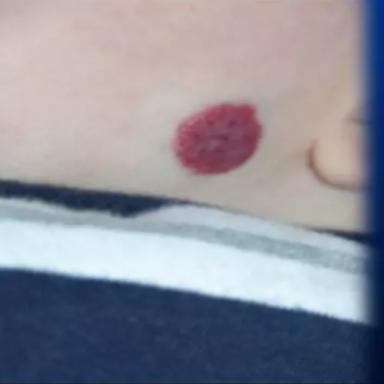Hemangiome: (174, 104, 261, 174)
